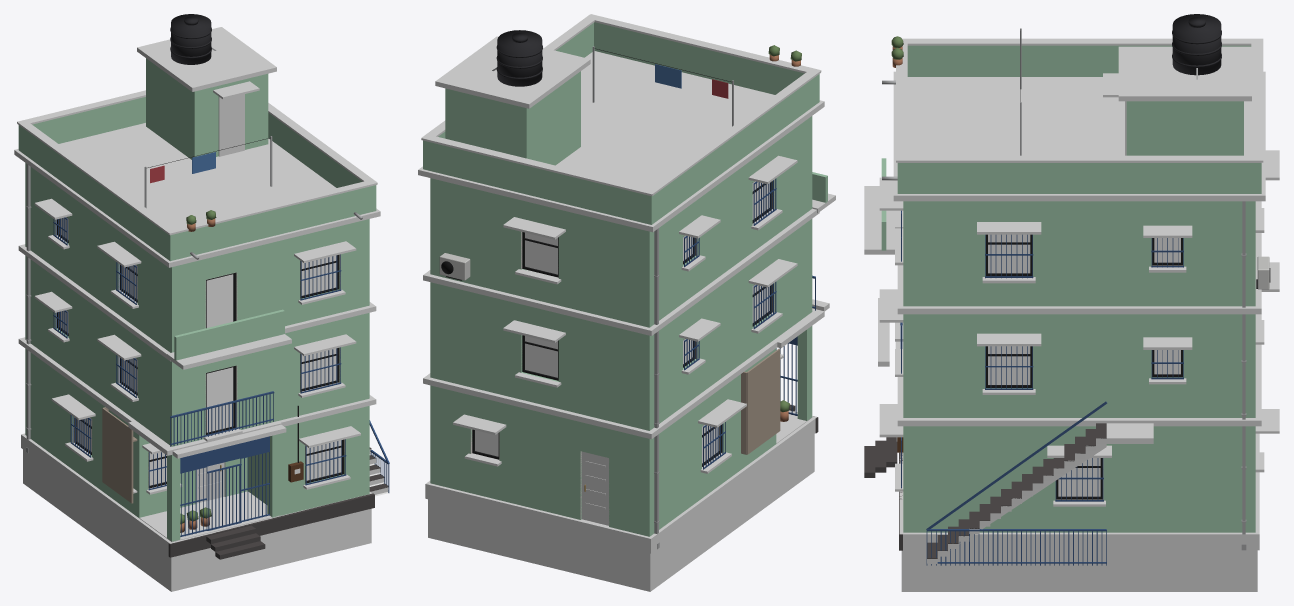
The model's file is tn_house_7x9_3.glb.
3 views of the same model, side by side, from view 1: azimuth 30°, elevation 25°; view 2: azimuth 150°, elevation 25°; view 3: azimuth 270°, elevation 25° (orthographic). The views are drawn at different scales.
Parts seen in each view (by area): view 1: tn_house_7x9_3; view 2: tn_house_7x9_3; view 3: tn_house_7x9_3.
Boxes of the visible parts, x1=… form: tn_house_7x9_3: x1=14, y1=14, x2=389, y2=591; tn_house_7x9_3: x1=418, y1=14, x2=835, y2=591; tn_house_7x9_3: x1=864, y1=14, x2=1279, y2=591.
Bounding box in the file's own units: 8.67 × 15.15 × 10.61.
